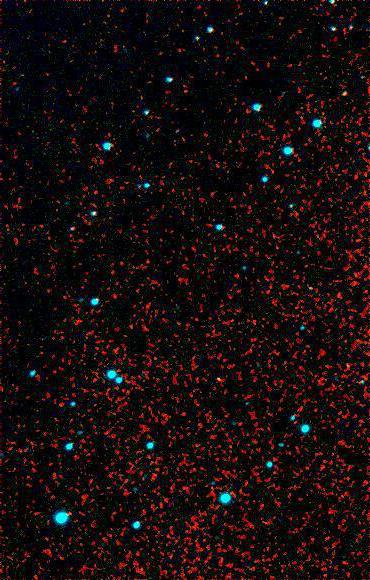star: (207, 365, 237, 395)
